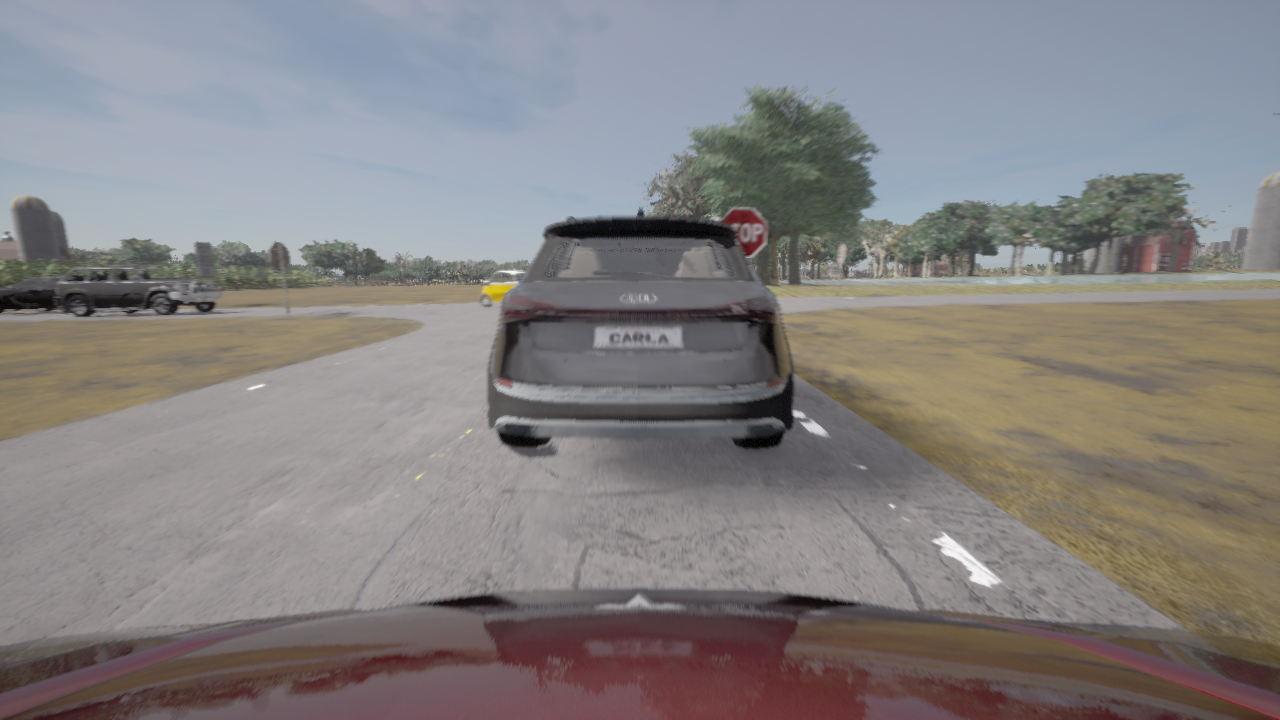cyclist: (0, 588, 1279, 719), (488, 207, 793, 448), (54, 263, 223, 316), (0, 276, 118, 313), (479, 270, 524, 307)
